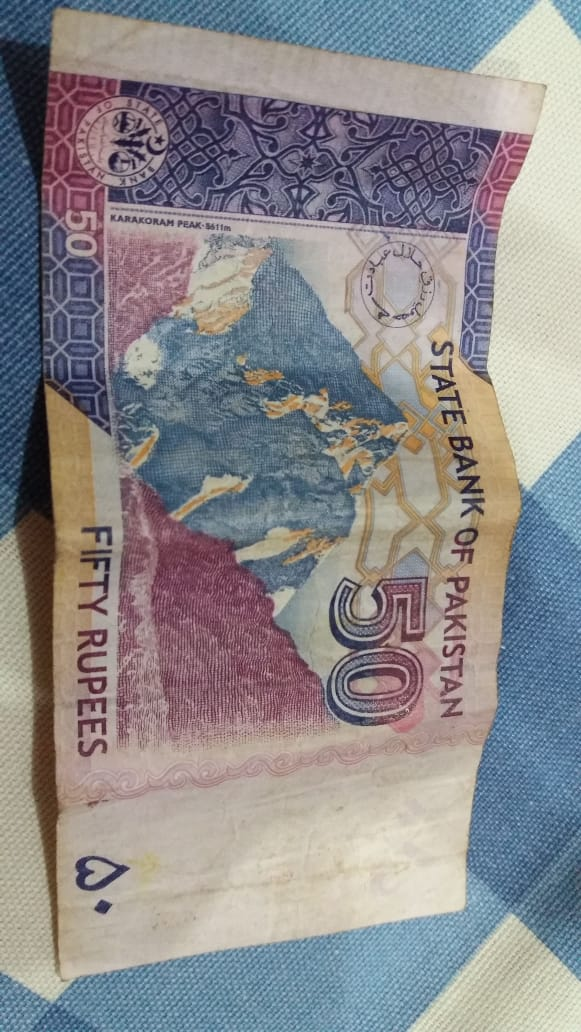50 rupee: (27, 24, 552, 1001)
